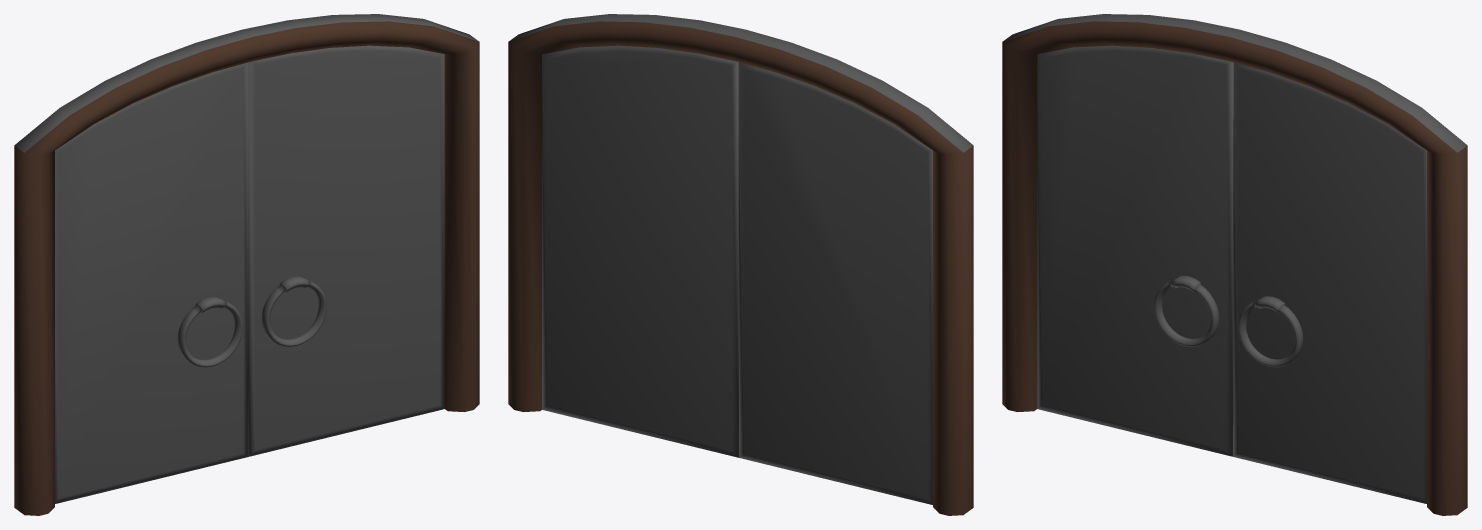
File: Porta_grande.fbx
3 renders of one model, left to right at view 1: azimuth 30°, elevation 25°; view 2: azimuth 150°, elevation 25°; view 3: azimuth 330°, elevation 25°, orthographic.
Parts seen in each view (by area): view 1: Cube.003; view 2: Cube.003; view 3: Cube.003.
Part boxes in pixels (box(x1,y1,x2,y2)): Cube.003: box(14, 14, 479, 515); Cube.003: box(508, 14, 973, 515); Cube.003: box(1002, 14, 1467, 515).
Size of the model in its own units: 1130 by 1002 by 82.27.
